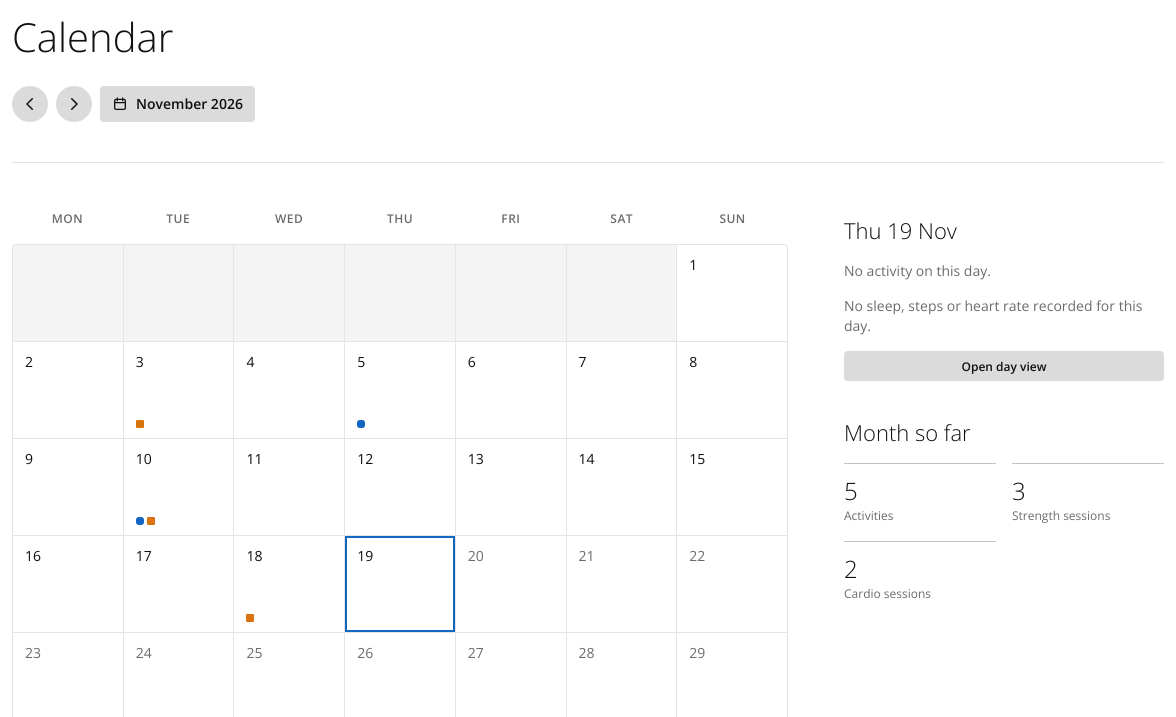
Scenario: CalendarPage (3l) › the focused day shows its activities, sleep, steps, heart rate and energy
Focus the link named "10 November, run, strength" at (179, 487), box [124,439,233,535]
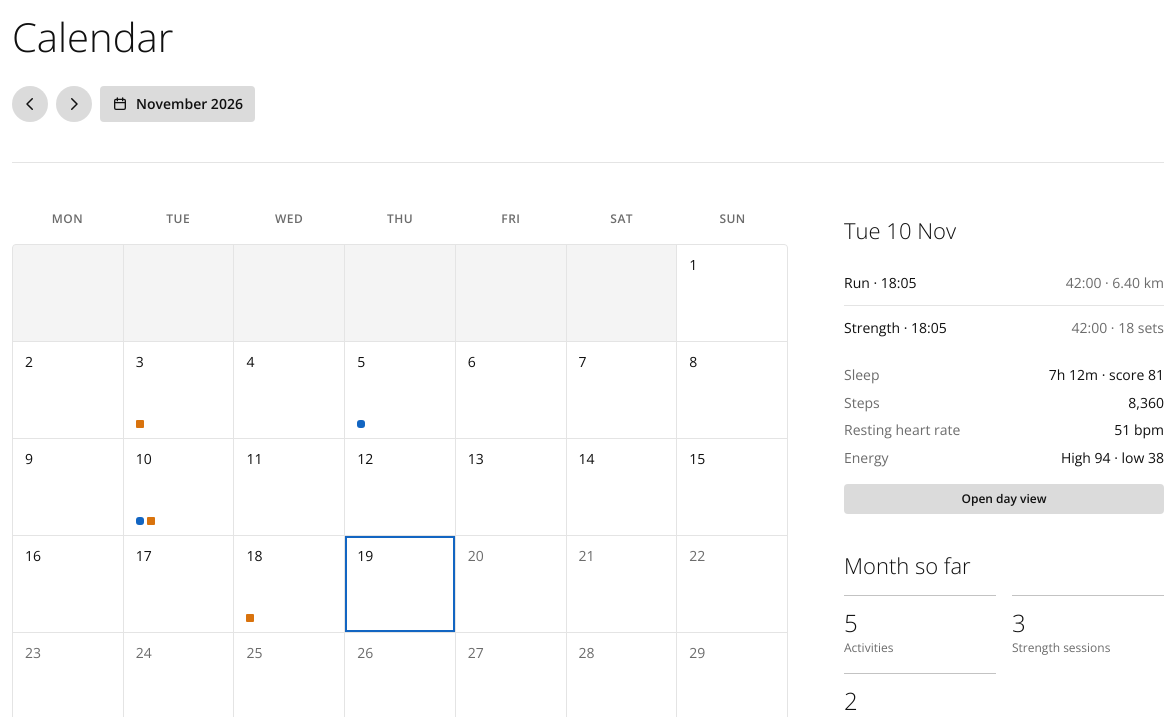
Now the text "Run · 18:05" is shown, box [844,273,916,292]
Now the text "Strength · 18:05" is shown, box [844,318,947,337]
Now the text "42:00 · 18 sets" is shown, box [1072,318,1164,337]
